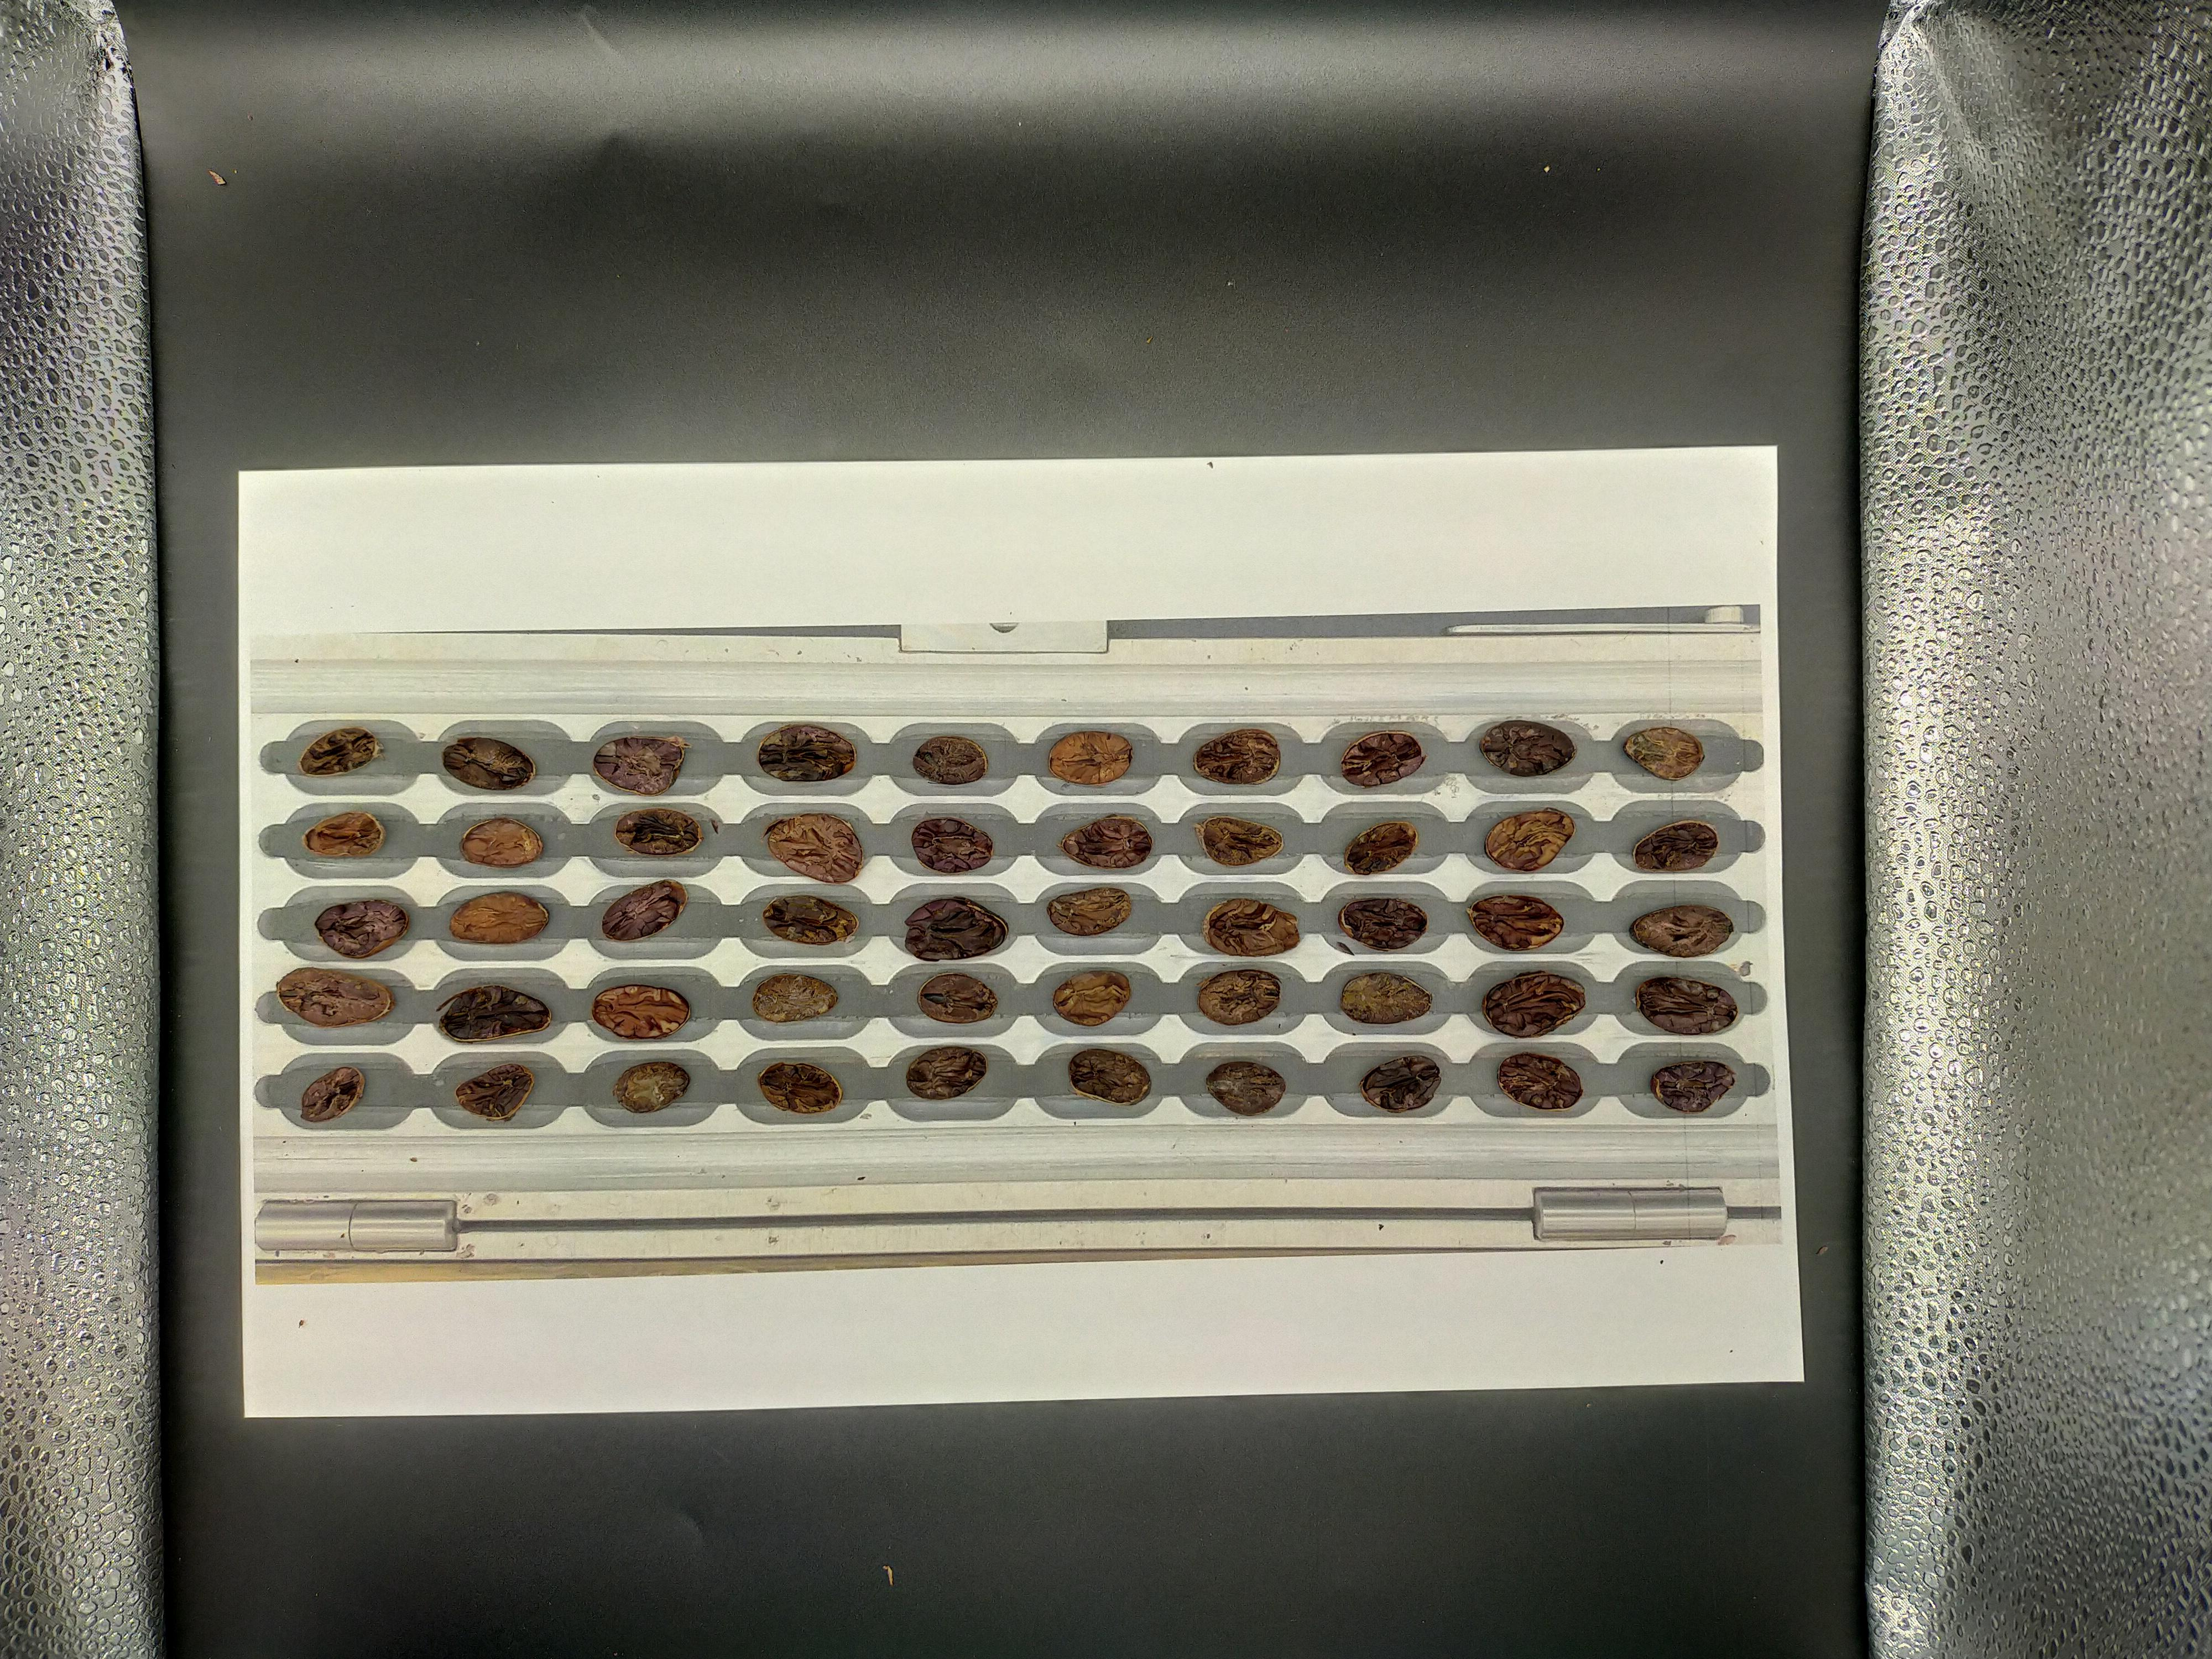Brown - G1: (1838, 497, 1893, 532), (1831, 455, 1881, 490), (1381, 502, 1435, 533), (1233, 411, 1282, 443)
Brown - G2: (1468, 416, 1524, 455), (1689, 369, 1738, 403), (1623, 415, 1672, 448), (1843, 538, 1893, 570), (1696, 460, 1747, 491), (1839, 413, 1886, 446), (1467, 544, 1514, 572), (1616, 495, 1660, 525), (1693, 418, 1737, 444), (1768, 420, 1808, 448)
Brown - G3: (1219, 495, 1284, 525), (1310, 453, 1360, 484), (1618, 371, 1660, 408), (1914, 462, 1968, 490), (1691, 495, 1738, 526), (1613, 453, 1660, 481), (1627, 537, 1669, 568), (1550, 497, 1592, 528), (1315, 418, 1357, 448), (1231, 544, 1268, 575)
Insect-damaged: (1763, 497, 1817, 525)
Mouldy: (1911, 369, 1954, 404), (1467, 495, 1512, 528), (1395, 540, 1437, 572), (1547, 375, 1588, 404), (1698, 544, 1740, 570)
Partly Purple - G1: (1541, 457, 1595, 493), (1768, 375, 1810, 404)
Partly Purple - G2: (1301, 502, 1362, 537), (1467, 369, 1522, 403), (1916, 498, 1970, 532), (1545, 415, 1590, 451), (1763, 462, 1810, 491), (1393, 413, 1440, 441)
Partly Purple - G3: (1386, 451, 1435, 483)
Total Purple - G2: (1925, 544, 1970, 573)
Total Purple - G3: (1381, 373, 1432, 410), (1240, 460, 1294, 488)
Very Dark Brown - G1: (1230, 371, 1277, 399)
Very Dark Brown - G2: (1541, 533, 1588, 566), (1777, 538, 1820, 572), (1310, 545, 1357, 575), (1916, 418, 1963, 444)
Very Dark Brown - G3: (1836, 364, 1890, 399), (1305, 376, 1355, 408), (1472, 458, 1522, 483)
